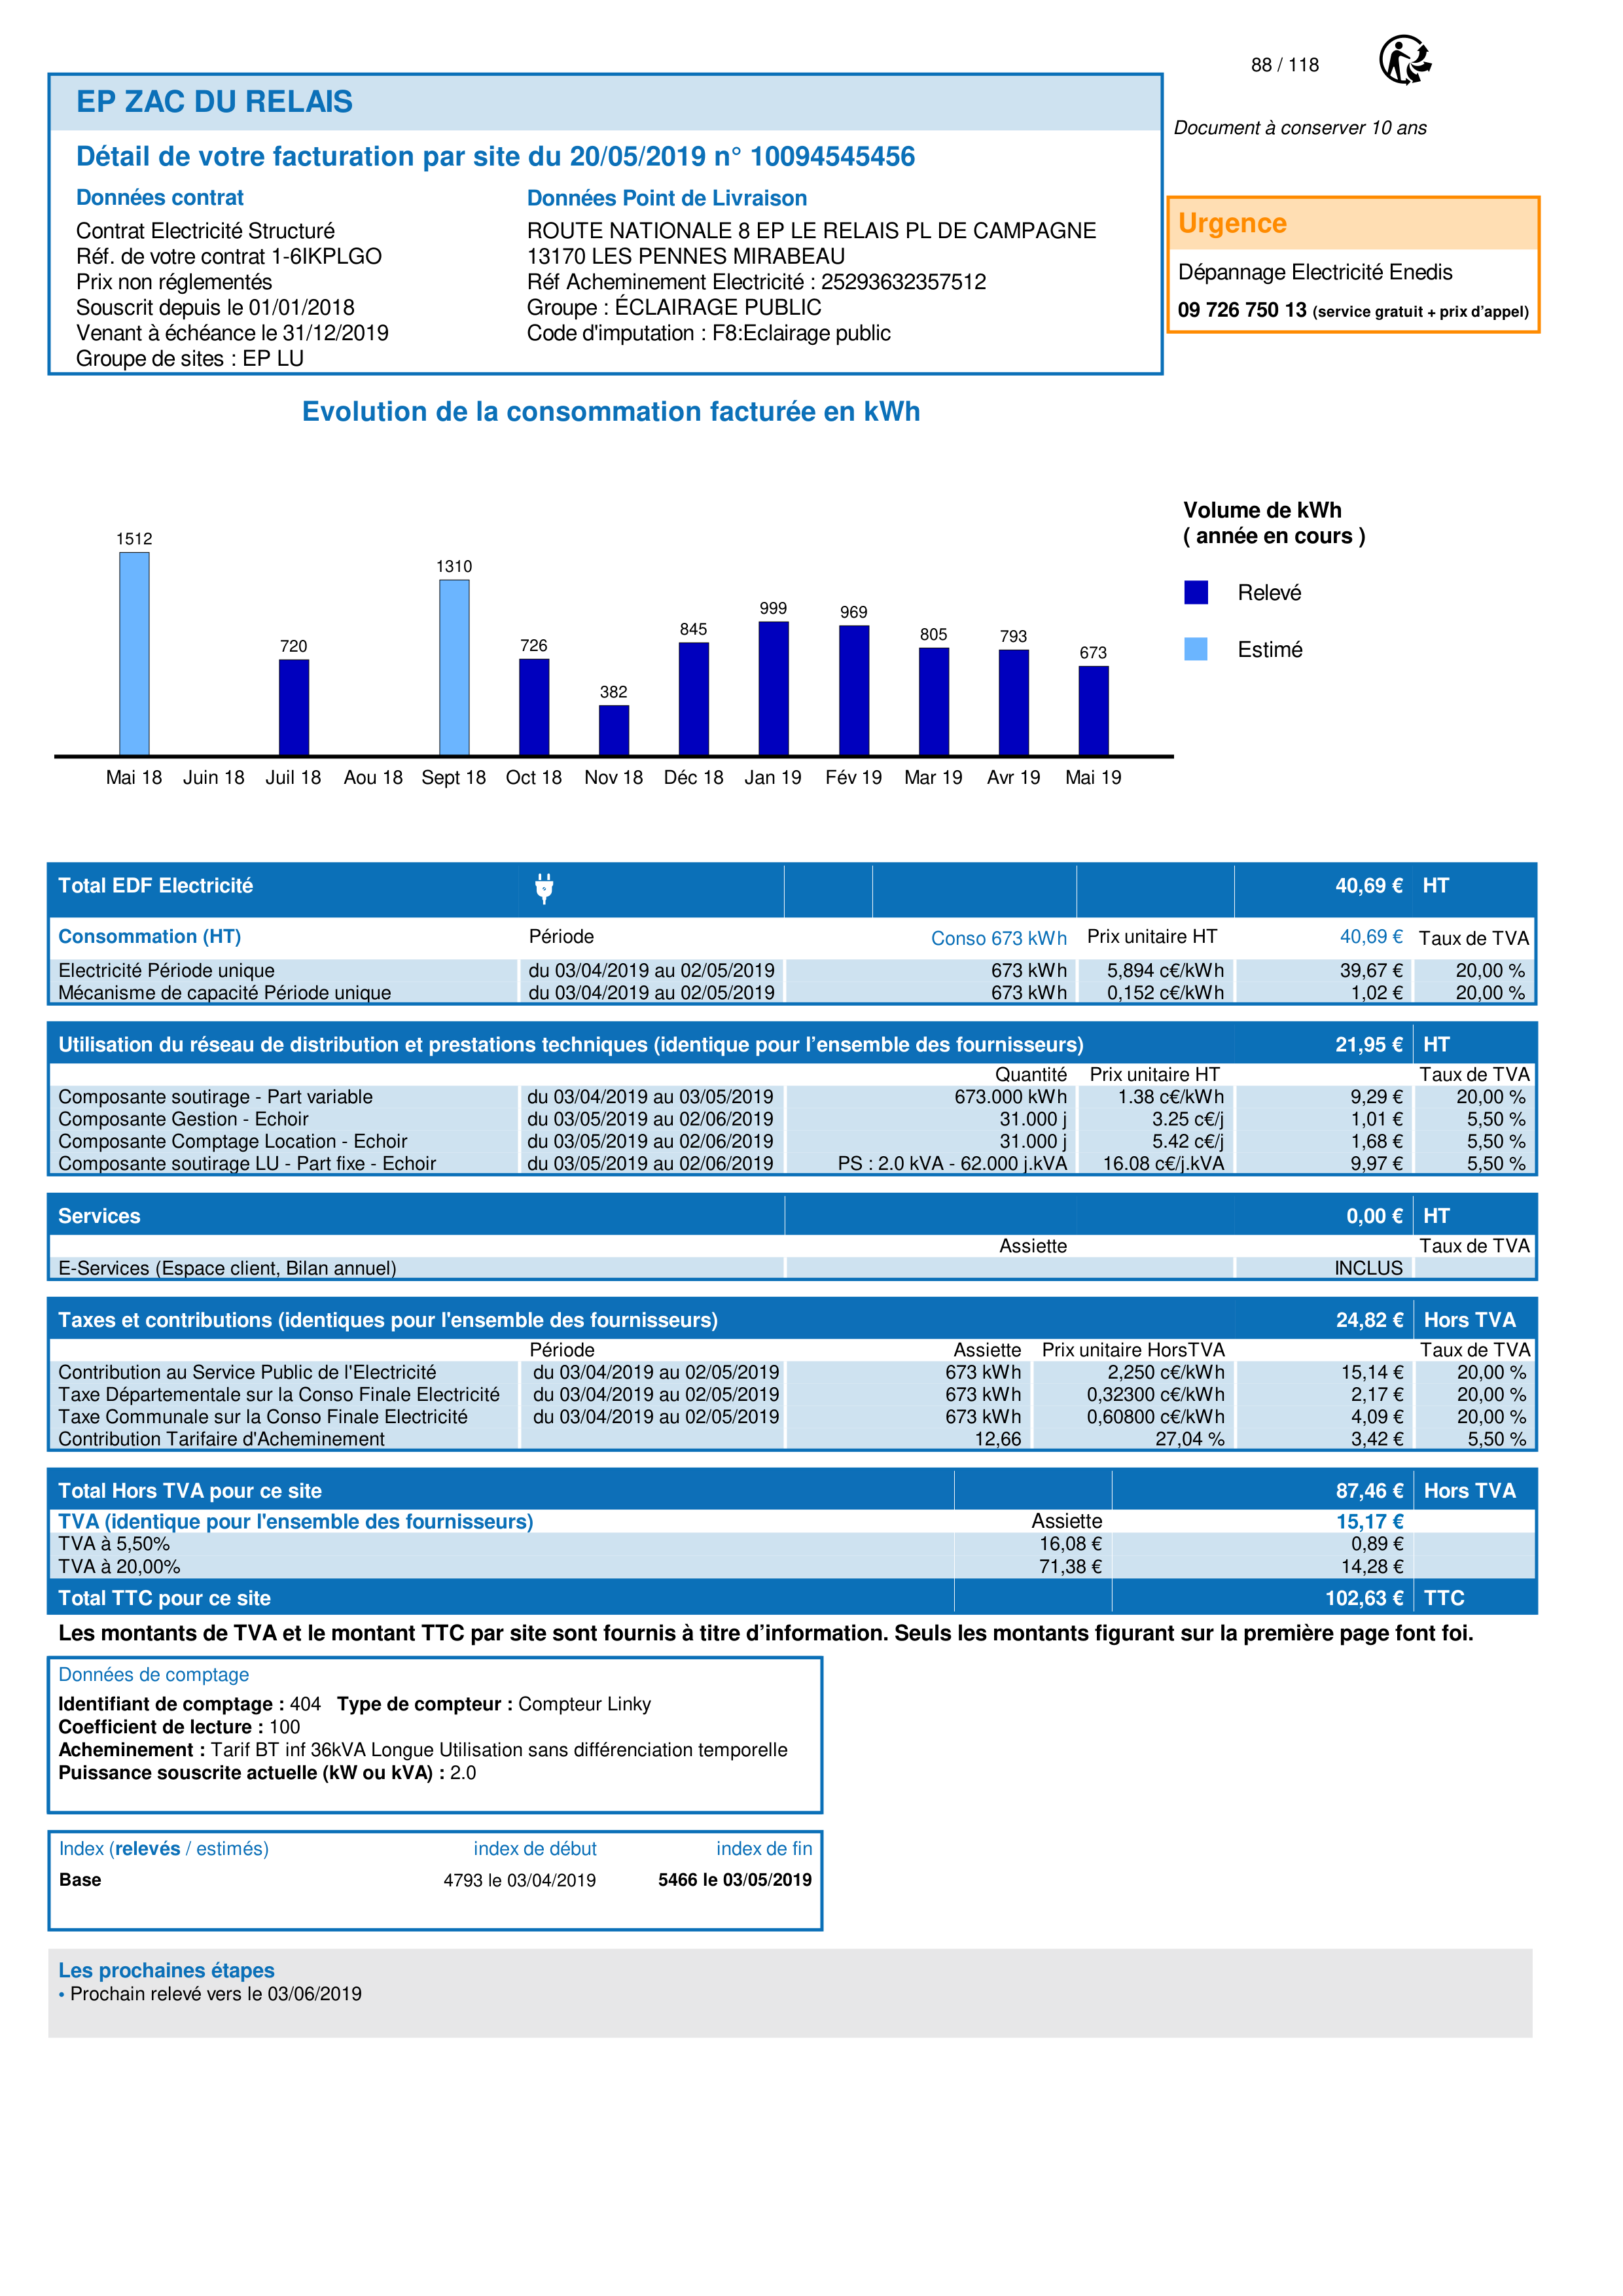area: (46, 1831, 823, 1930)
type_indicator: (47, 1832, 277, 1865)
